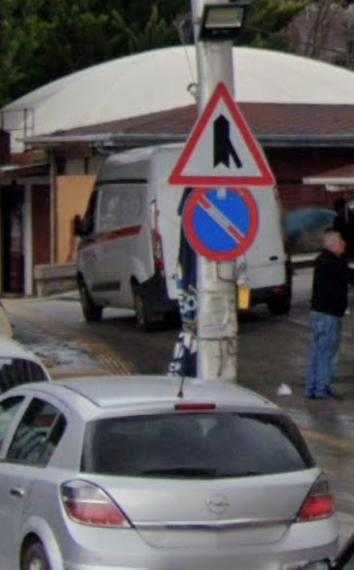nopark: (185, 183, 259, 259)
